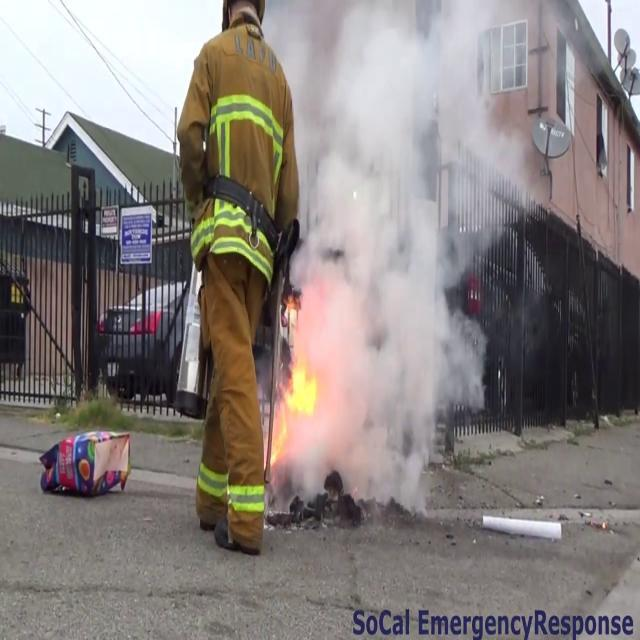Fire: (268, 307, 322, 470), (279, 312, 321, 423)
Smoke: (283, 0, 487, 508)
